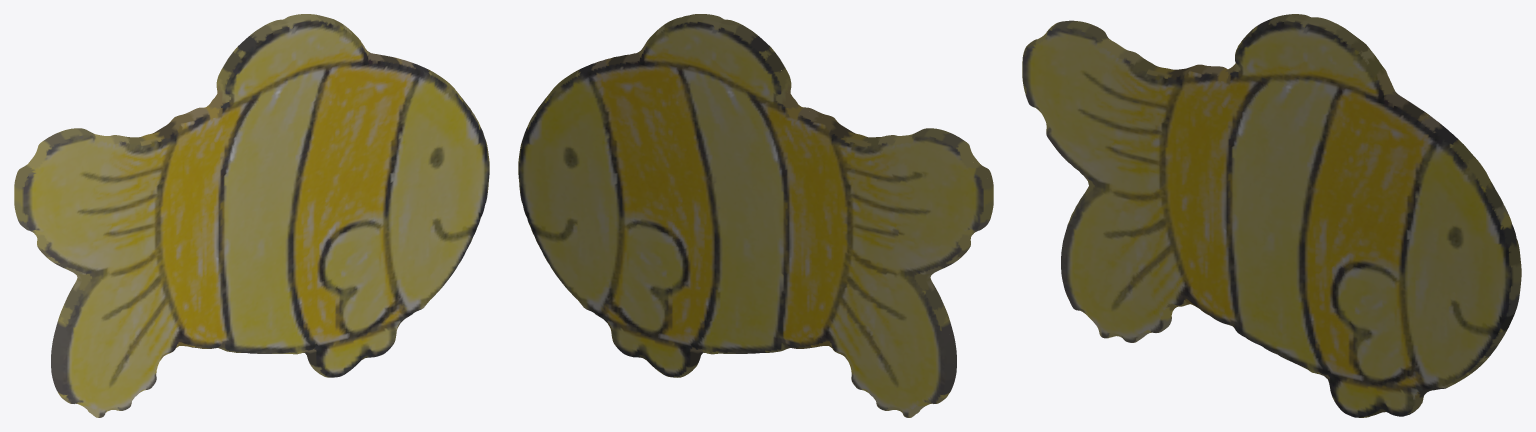
Rendered from clownfish.glb.
3 renders of one model, left to right at view 1: azimuth 30°, elevation 25°; view 2: azimuth 150°, elevation 25°; view 3: azimuth 330°, elevation 25°, orthographic. The views are drawn at different scales.
Bounding box in the file's own units: 0.2703 × 0.2013 × 0.01.
